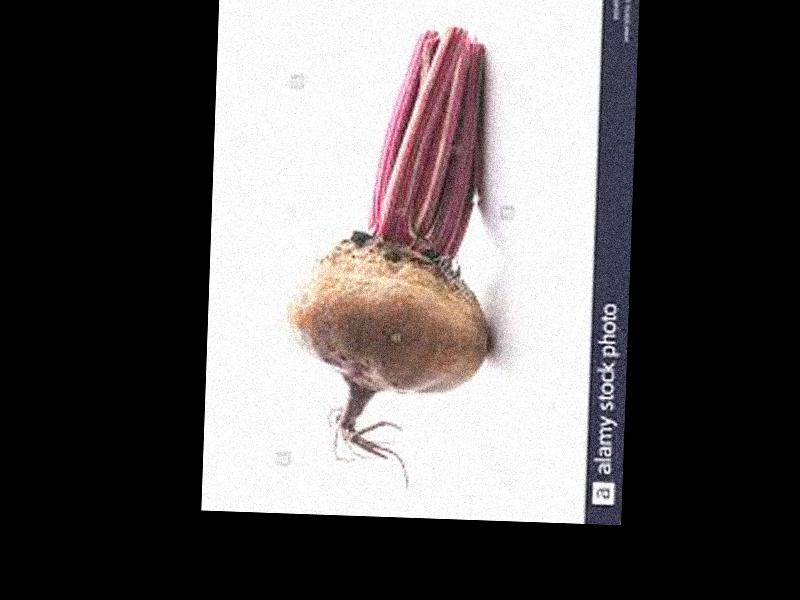Beet: (283, 21, 500, 491)
